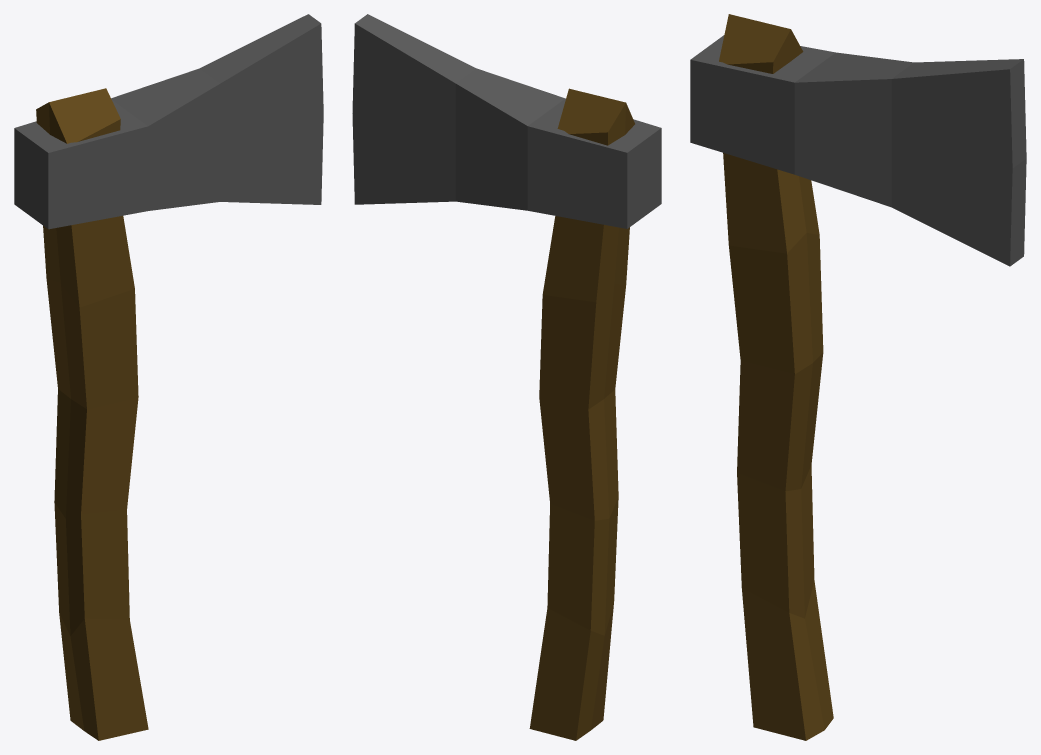
The model's file is TestAxe.fbx.
3 renders of one model, left to right at view 1: azimuth 30°, elevation 25°; view 2: azimuth 150°, elevation 25°; view 3: azimuth 330°, elevation 25°, orthographic. The views are drawn at different scales.
Parts seen in each view (by area): view 1: Cube; view 2: Cube; view 3: Cube.
Boxes of the visible parts, box(x1,y1,x2,y2) form: Cube: box(14, 14, 323, 740); Cube: box(352, 14, 661, 740); Cube: box(690, 14, 1026, 740).
Size of the model in its own units: 1083 by 2377 by 249.
